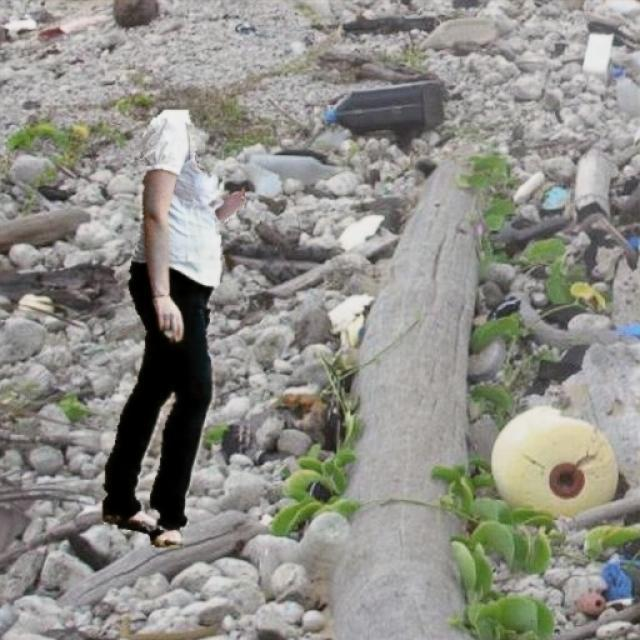Person in Rubble: (102, 110, 244, 546)
